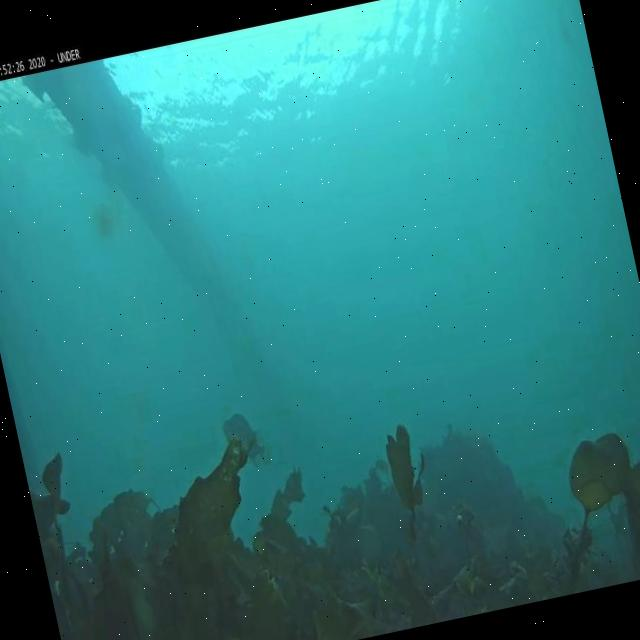fish: (222, 408, 272, 472)
